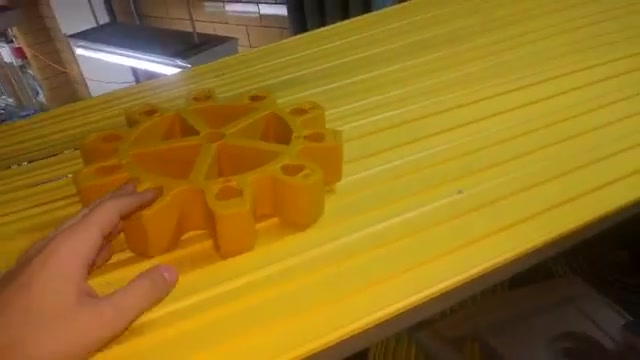gear: (62, 69, 357, 262)
